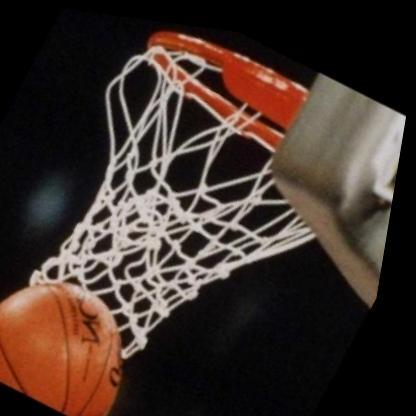basketball: (0, 239, 183, 416)
rim: (7, 6, 364, 405)
